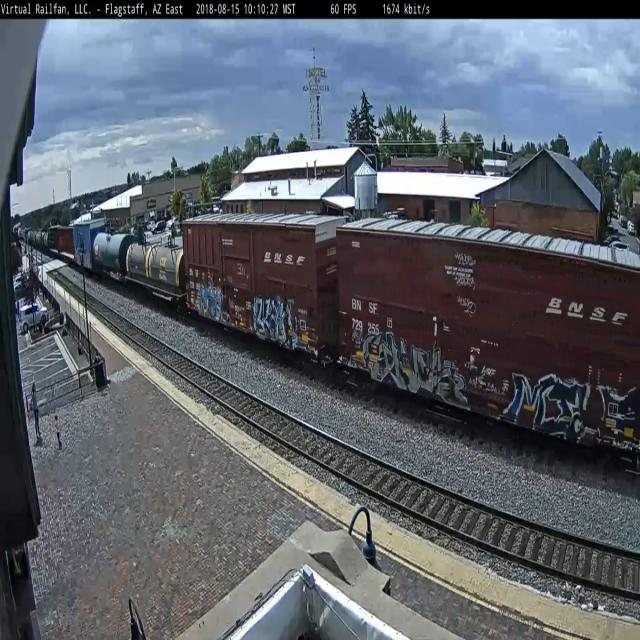boxcar: (331, 205, 640, 475), (179, 206, 341, 383)
tank: (147, 236, 186, 298)
